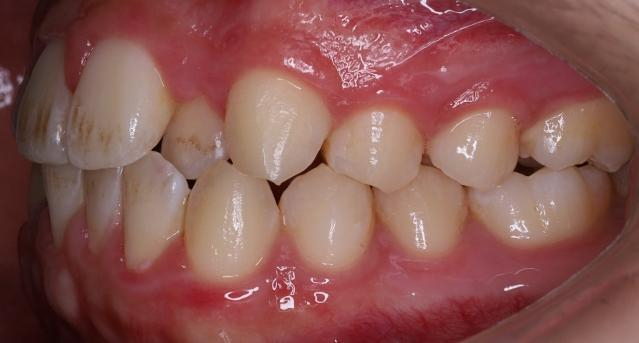canine class I: (183, 66, 377, 296)
molar class III 1/2: (468, 101, 638, 255)
